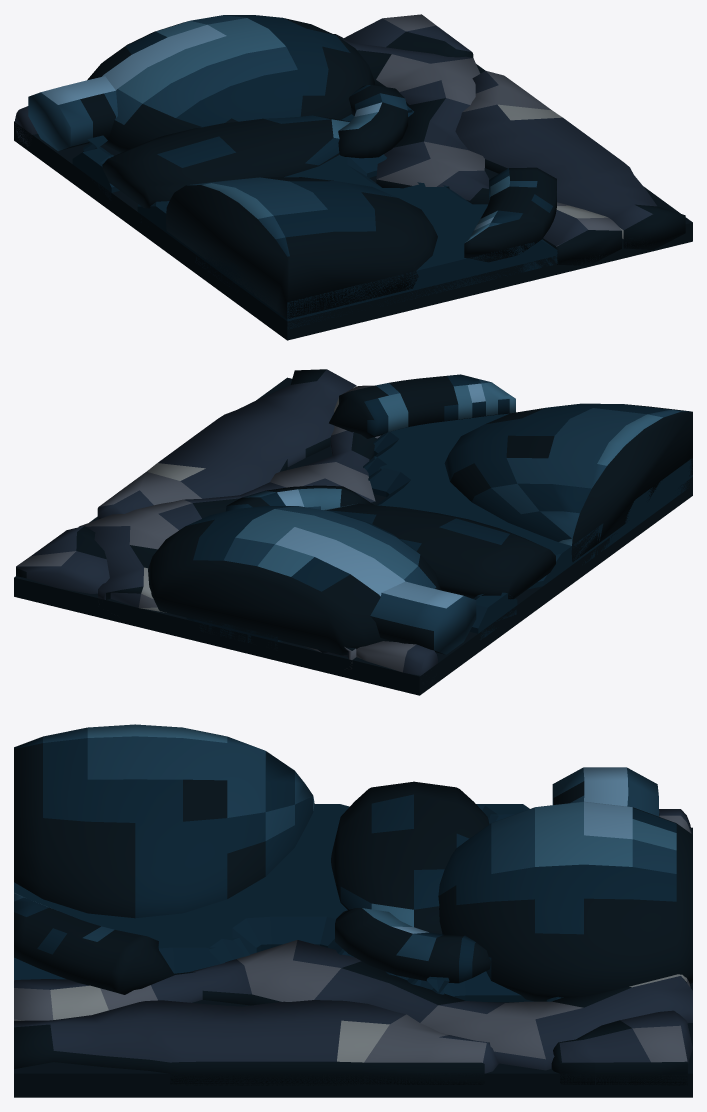
Rendered from newshh-83.glb.
3 views of the same model, one above another, from view 1: azimuth 30°, elevation 25°; view 2: azimuth 150°, elevation 25°; view 3: azimuth 270°, elevation 25° (orthographic). The views are drawn at different scales.
Visible parts, largest first — view 1: newshh-83; view 2: newshh-83; view 3: newshh-83.
Part boxes in pixels (bbox=[...]): newshh-83: bbox=[14, 14, 692, 340]; newshh-83: bbox=[14, 369, 692, 695]; newshh-83: bbox=[14, 724, 692, 1097].
Bounding box in the file's own units: 2 × 0.4819 × 2.33.
